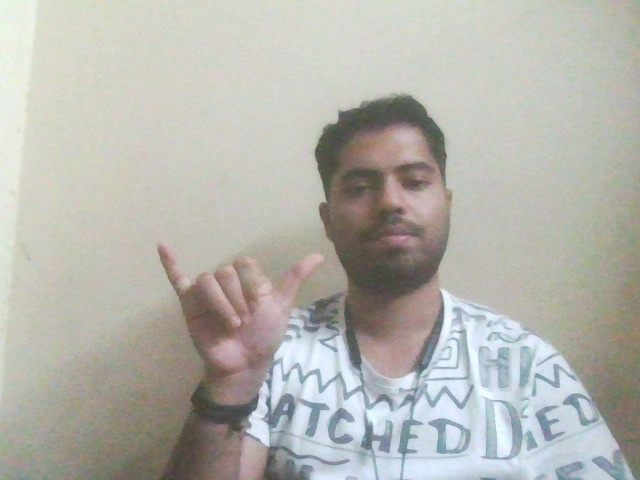Please: (150, 222, 347, 387)
